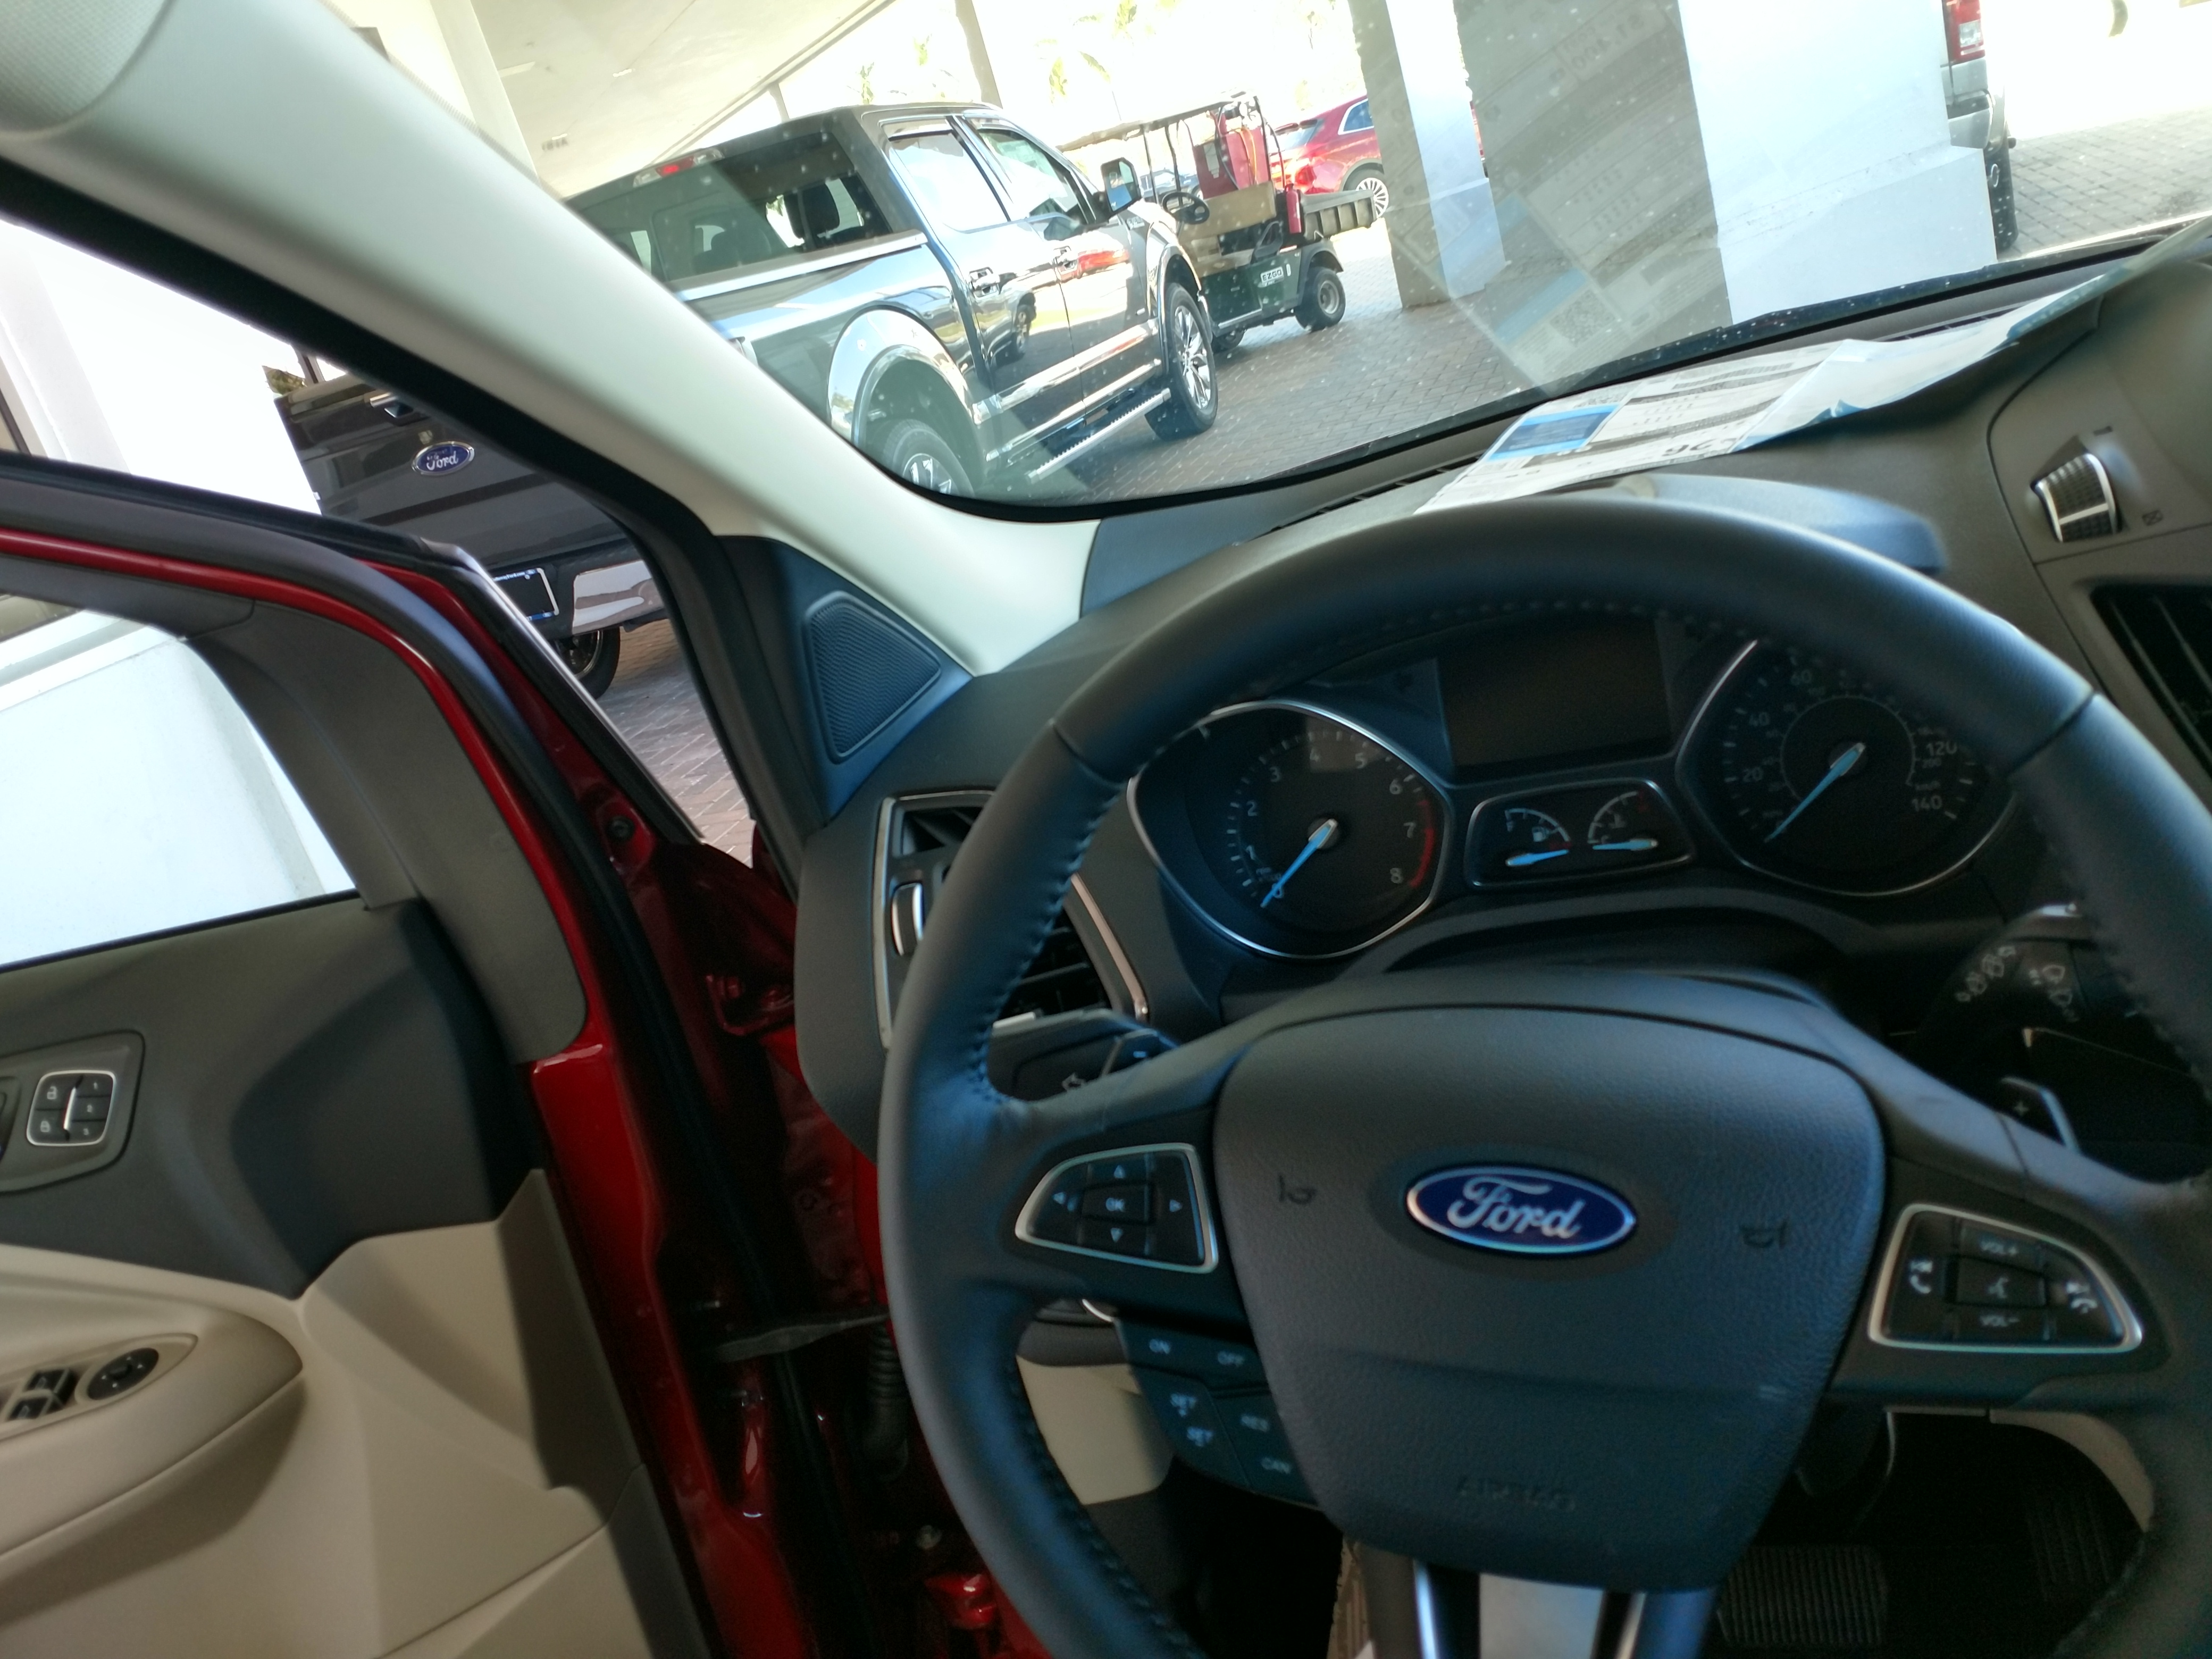Ford: (1397, 1150, 1660, 1272)
